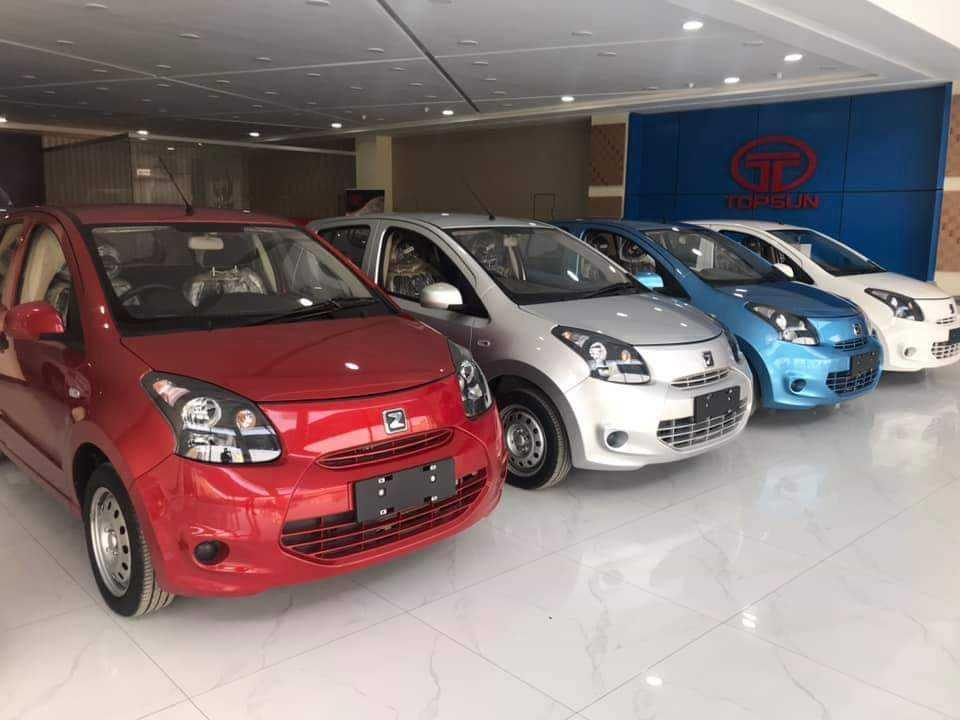windshield: (83, 222, 402, 340), (424, 216, 660, 320), (639, 226, 798, 292)
